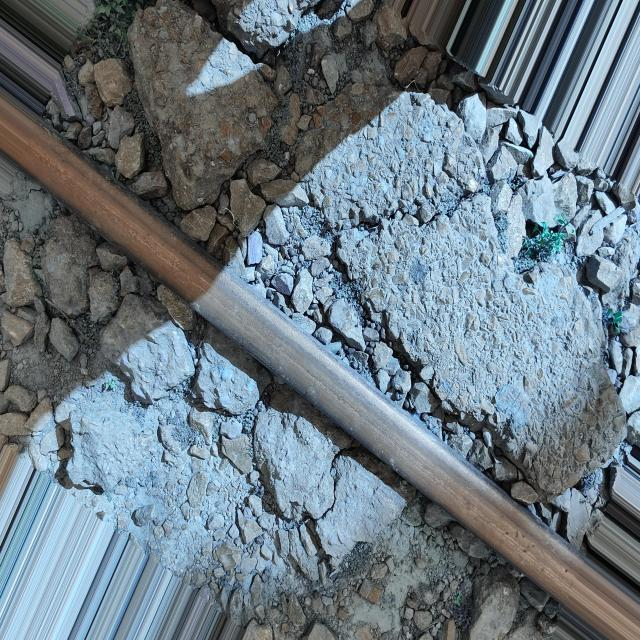non-defective: (2, 90, 636, 638)
